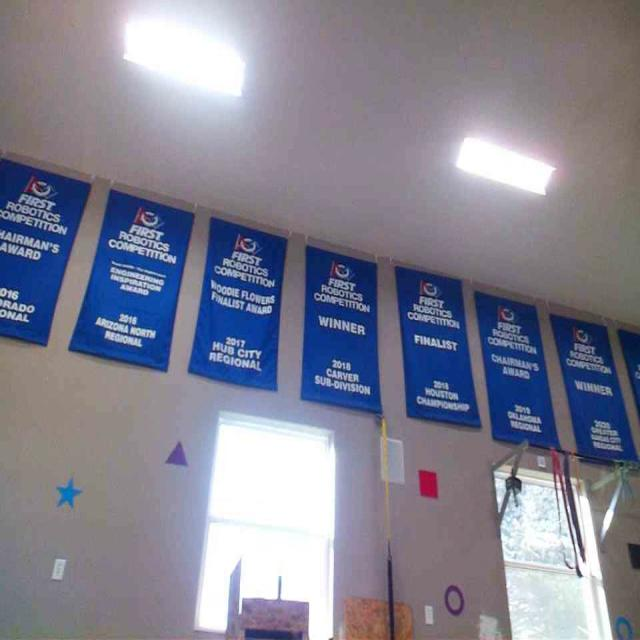ring_blue: (614, 615, 633, 639)
ring_purple: (442, 584, 465, 614)
square_black: (625, 542, 639, 568)
square_red: (416, 468, 439, 500)
star_blue: (54, 478, 82, 508)
triangle_purple: (163, 438, 189, 466)
